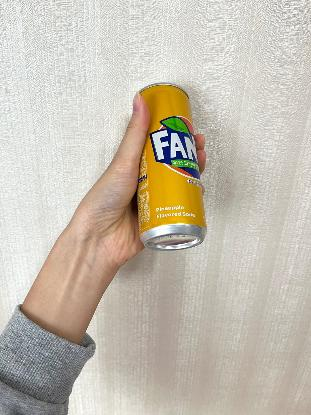Can: (134, 80, 210, 254)
